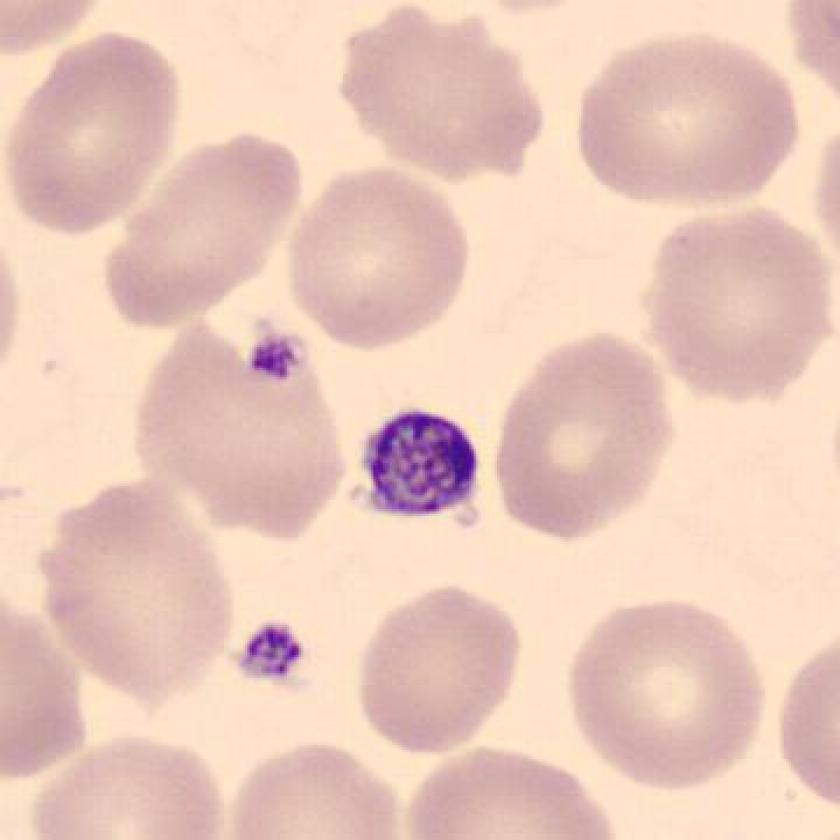platelets: (349, 395, 491, 534), (223, 605, 316, 695), (230, 318, 321, 399)
